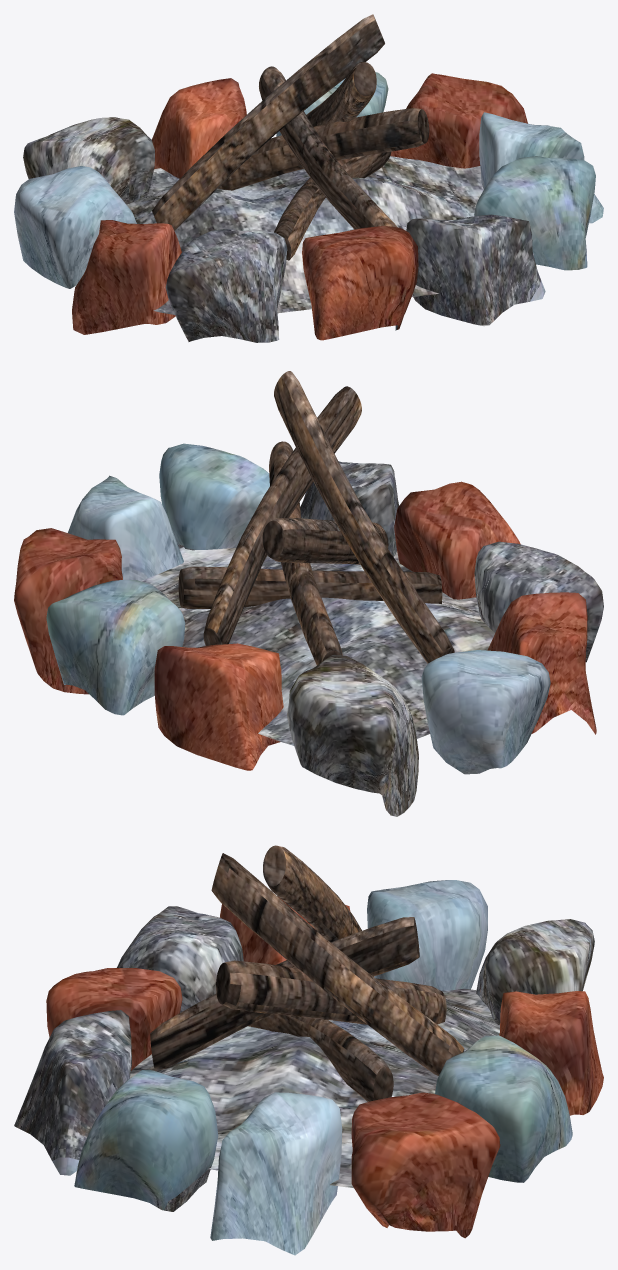
The model's file is fireplace.obj.
3 renders of one model, top to bottom at view 1: azimuth 30°, elevation 25°; view 2: azimuth 150°, elevation 25°; view 3: azimuth 270°, elevation 25°, orthographic. The views are drawn at different scales.
Visible parts, largest first — view 1: Ohniste_Circle.004; view 2: Ohniste_Circle.004; view 3: Ohniste_Circle.004.
Part boxes in pixels (box(x1,y1,x2,y2)): Ohniste_Circle.004: box(14, 14, 603, 342); Ohniste_Circle.004: box(14, 371, 603, 816); Ohniste_Circle.004: box(14, 845, 603, 1255).
Size of the model in its own units: 7.59 by 4.06 by 6.5.
